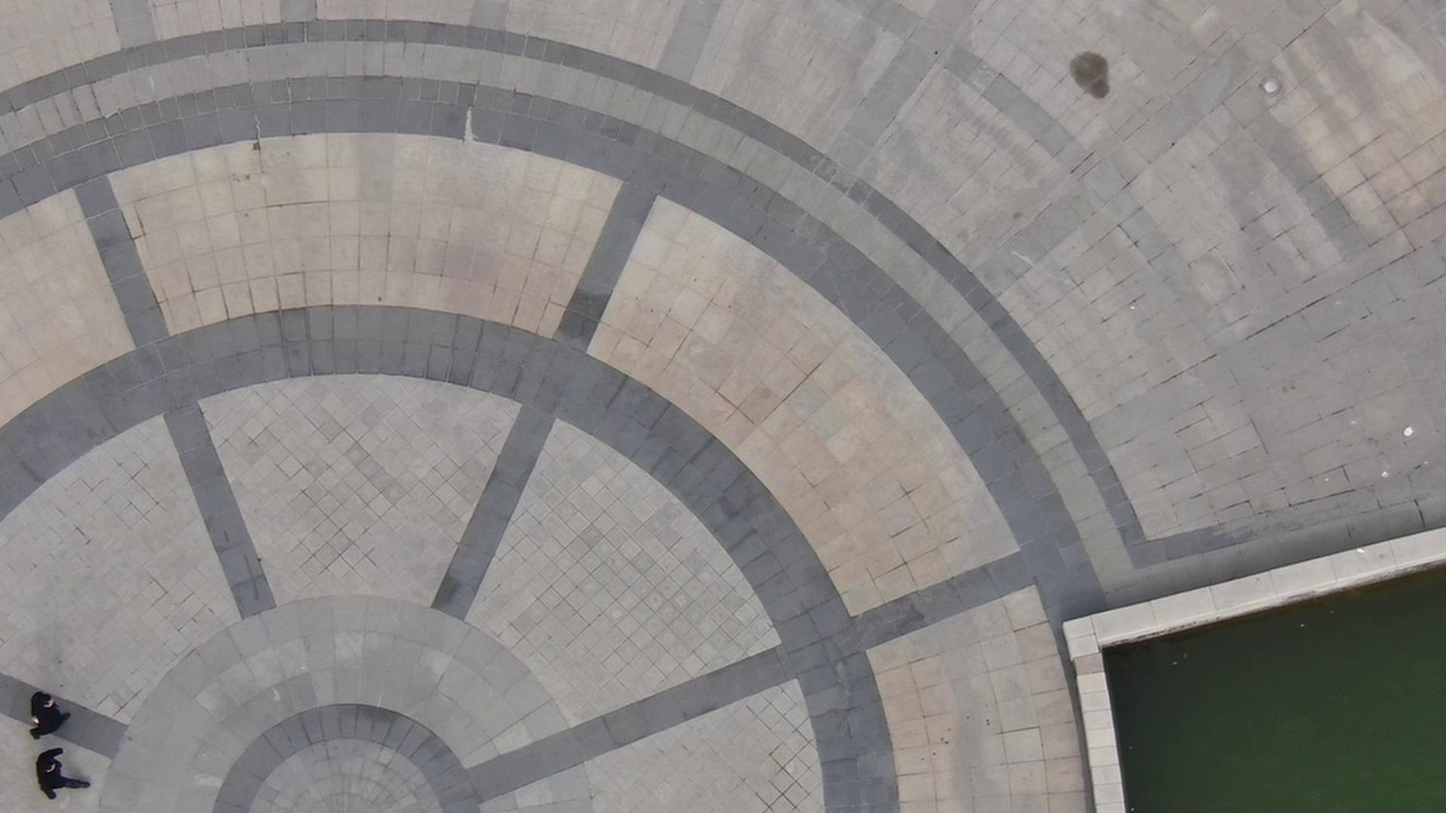human: (51, 666, 105, 731), (60, 729, 111, 787)
